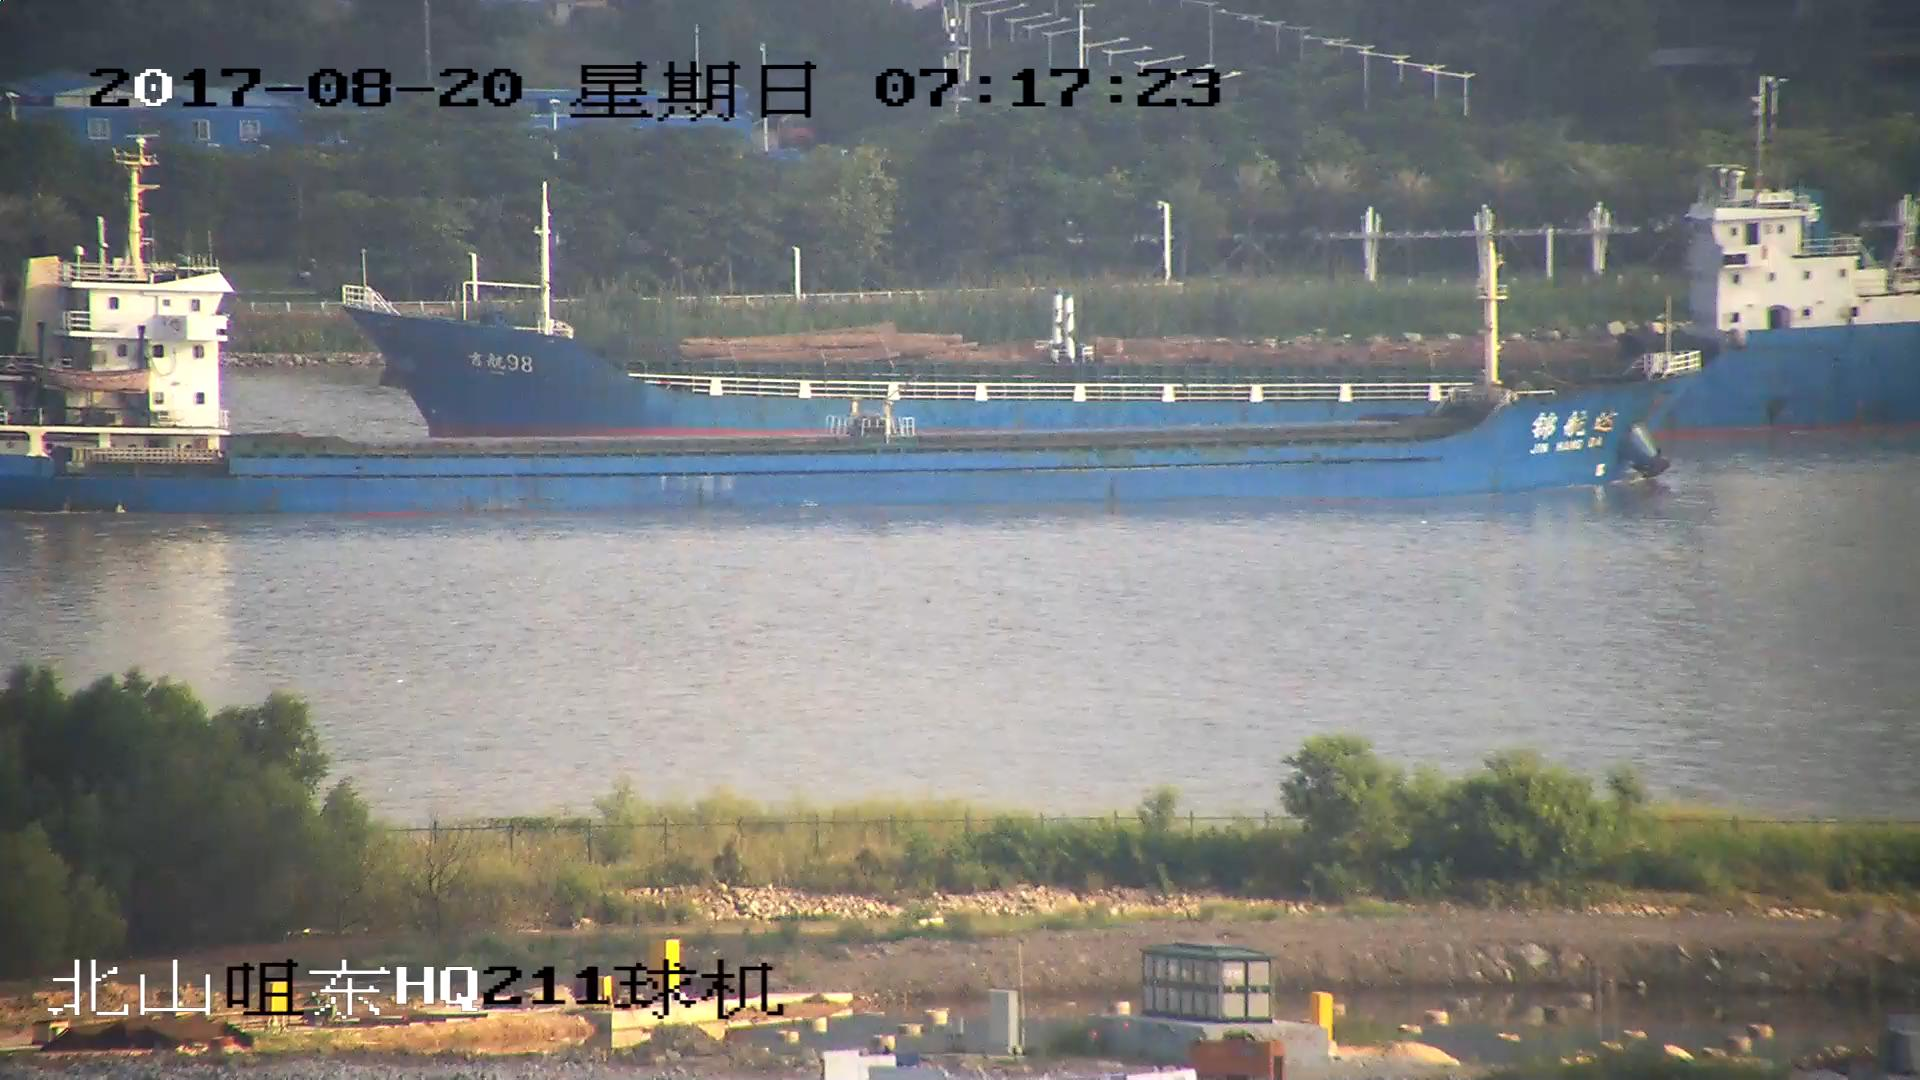general cargo ship: (1, 173, 1673, 504), (333, 116, 1920, 451)
